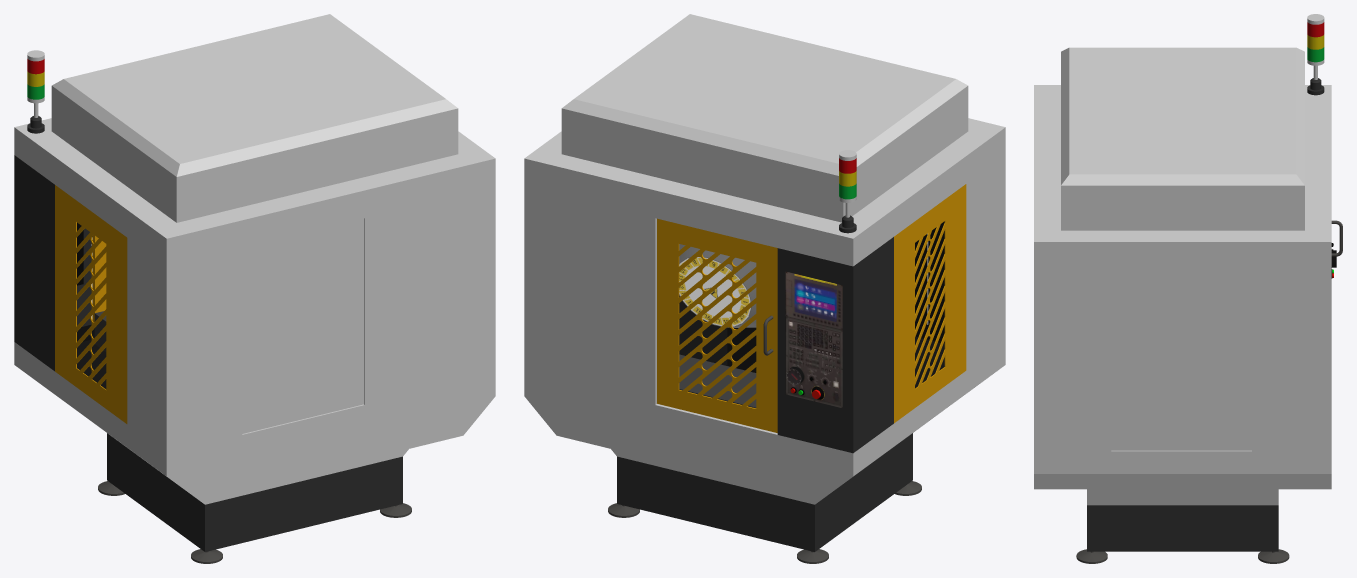
File: CNC.gltf
The picture shows the model from 3 angles, left to right: view 1: azimuth 30°, elevation 25°; view 2: azimuth 150°, elevation 25°; view 3: azimuth 270°, elevation 25°; orthographic projection. The views are drawn at different scales.
Parts seen in each view (by area): view 1: 개체_112.002, 개체_119.002, 개체_122.002, 개체_134.002, 개체_115.002, 개체_123.002; view 2: 개체_112.002, 개체_123.002, 개체_134.002, 개체_119.002, 개체_122.002, 개체_133.002, 개체_72.002, 개체_136.002, 개체_115.002, 개체_135.002; view 3: 개체_112.002, 개체_138.002, 개체_119.002, 개체_115.002.
Part boxes in pixels (x1,y1,x2,y2): 개체_112.002: (14, 14, 495, 504); 개체_119.002: (107, 433, 402, 551); 개체_122.002: (55, 185, 127, 423); 개체_134.002: (14, 155, 91, 371); 개체_115.002: (98, 481, 411, 563); 개체_123.002: (92, 234, 106, 322); 개체_112.002: (524, 14, 1005, 504); 개체_123.002: (657, 218, 777, 432); 개체_134.002: (777, 237, 893, 453); 개체_119.002: (617, 433, 912, 551); 개체_122.002: (894, 184, 966, 423); 개체_133.002: (785, 271, 842, 408); 개체_72.002: (679, 244, 756, 327); 개체_136.002: (679, 354, 756, 408); 개체_115.002: (608, 481, 921, 563); 개체_135.002: (727, 327, 756, 372); 개체_112.002: (1034, 47, 1331, 505); 개체_138.002: (1111, 269, 1251, 450); 개체_119.002: (1087, 505, 1278, 551); 개체_115.002: (1076, 549, 1289, 563).
Size of the model in its own units: 217 by 273 by 181.
19 materials, 3 textured.
